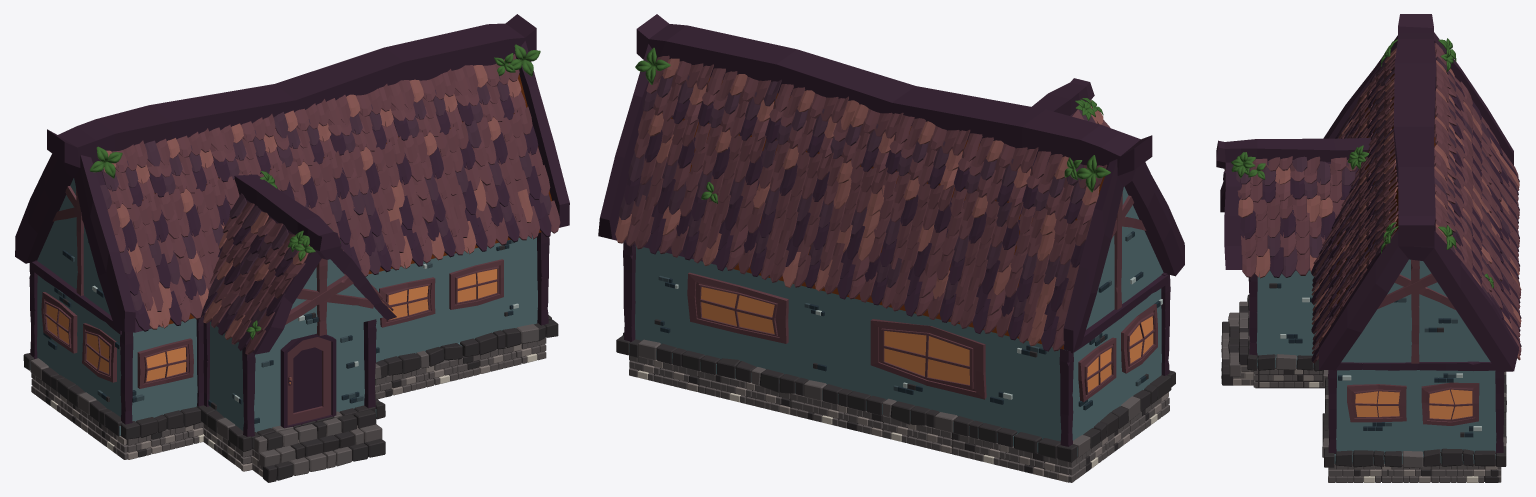
File: casa-pedra4.fbx
The picture shows the model from 3 angles, left to right: view 1: azimuth 30°, elevation 25°; view 2: azimuth 150°, elevation 25°; view 3: azimuth 270°, elevation 25°; orthographic projection. The views are drawn at different scales.
Visible parts, largest first — view 1: Cube.054, Cube.012; view 2: Cube.054; view 3: Cube.054.
Part boxes in pixels (x1=…): Cube.054: x1=15, y1=14, x2=569, y2=482; Cube.012: x1=287, y1=337, x2=331, y2=425; Cube.054: x1=598, y1=14, x2=1184, y2=482; Cube.054: x1=1216, y1=14, x2=1521, y2=482.
Bounding box in the file's own units: 1099 × 661 × 673.
